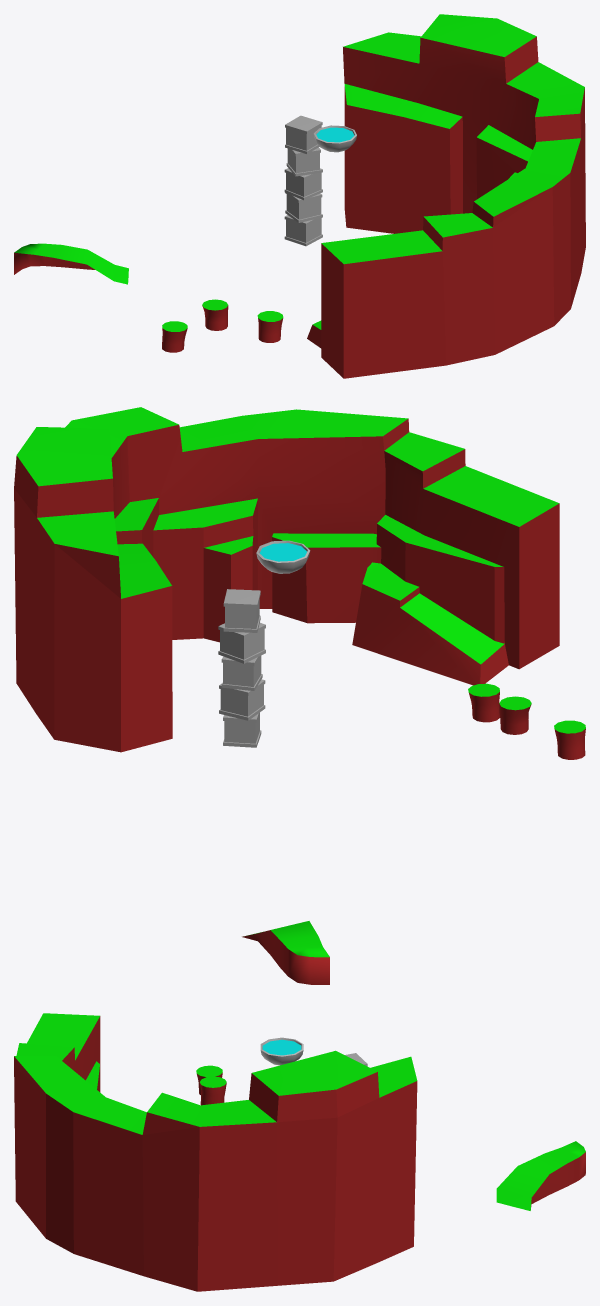
The model's file is sm_StatueIslandDressing.fbx.
3 renders of one model, top to bottom at view 1: azimuth 30°, elevation 25°; view 2: azimuth 150°, elevation 25°; view 3: azimuth 270°, elevation 25°, orthographic. The views are drawn at different scales.
Visible parts, largest first — view 1: sm_Cliff, sm_GrassRamp, StonePillar8, StonePillar6, StonePillar, StonePillar5, StonePillar7, sm_WaterPillar03, sm_WaterPillar01, sm_WaterPillar02, sm_ShamenBowl; view 2: sm_Cliff, sm_GrassRamp, StonePillar8, StonePillar7, StonePillar5, StonePillar6, sm_WaterPillar01, StonePillar, sm_WaterPillar02, sm_WaterPillar03, sm_ShamenBowl; view 3: sm_Cliff, sm_GrassRamp, sm_WaterPillar02, sm_ShamenBowl, sm_ShamenBowlWater.
Boxes of the visible parts, x1,y1,x2,y2 form: sm_Cliff: [307, 14, 585, 378]; sm_GrassRamp: [14, 243, 128, 284]; StonePillar8: [285, 115, 322, 153]; StonePillar6: [284, 168, 322, 200]; StonePillar: [284, 214, 322, 246]; StonePillar5: [285, 193, 322, 222]; StonePillar7: [286, 147, 320, 176]; sm_WaterPillar03: [257, 311, 283, 342]; sm_WaterPillar01: [162, 321, 187, 352]; sm_WaterPillar02: [202, 299, 228, 330]; sm_ShamenBowl: [313, 125, 356, 152]; sm_Cliff: [14, 407, 559, 752]; sm_GrassRamp: [242, 921, 329, 984]; StonePillar8: [223, 589, 260, 632]; StonePillar7: [218, 622, 265, 663]; StonePillar5: [219, 679, 265, 720]; StonePillar6: [221, 656, 262, 690]; sm_WaterPillar01: [554, 720, 585, 759]; StonePillar: [223, 712, 261, 747]; sm_WaterPillar02: [499, 696, 531, 734]; sm_WaterPillar03: [468, 683, 499, 722]; sm_ShamenBowl: [256, 540, 310, 573]; sm_Cliff: [14, 1013, 417, 1291]; sm_GrassRamp: [496, 1141, 585, 1210]; sm_WaterPillar02: [199, 1076, 226, 1105]; sm_ShamenBowl: [260, 1037, 303, 1065]; sm_ShamenBowlWater: [262, 1039, 301, 1055].
Size of the model in its own units: 8160 by 4709 by 9373.
